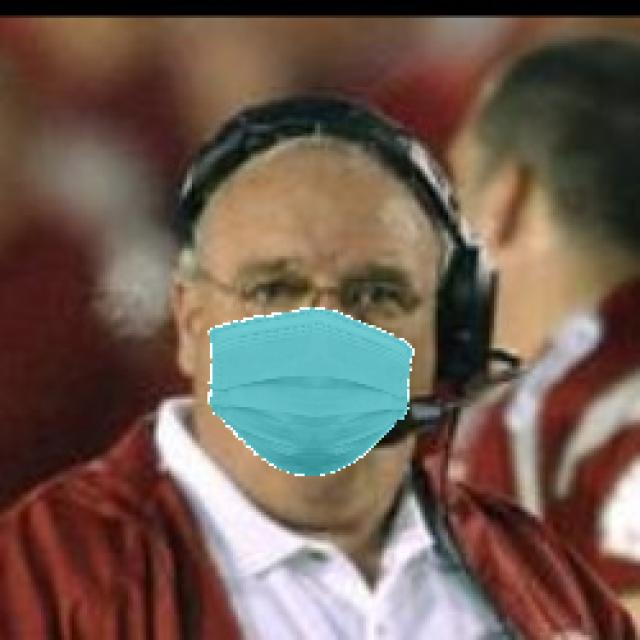mask: (192, 284, 434, 481)
